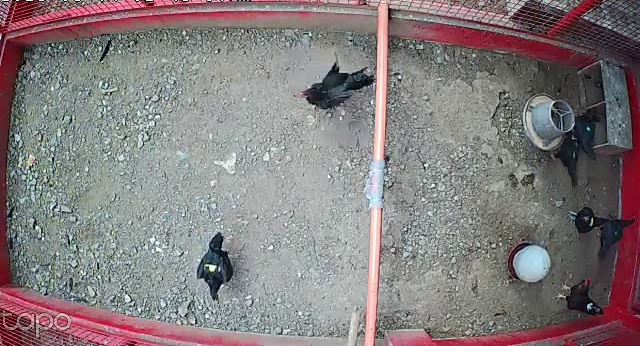Chicken: (293, 53, 384, 114), (194, 226, 243, 308), (596, 210, 637, 264), (548, 127, 582, 191), (564, 202, 613, 238), (573, 110, 603, 163)
Rooster: (553, 274, 608, 320)
Saddle_Color_Yellow: (201, 262, 224, 274)
